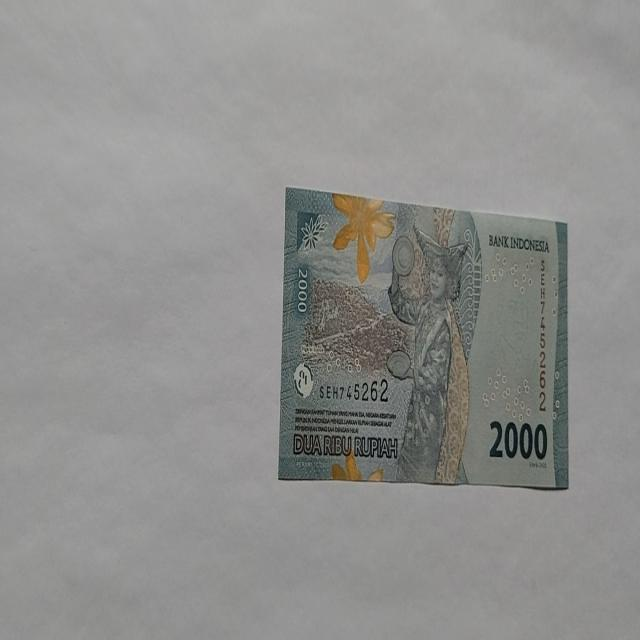dua ribu rupiah: (277, 187, 568, 489), (386, 224, 470, 483), (330, 191, 396, 284)
